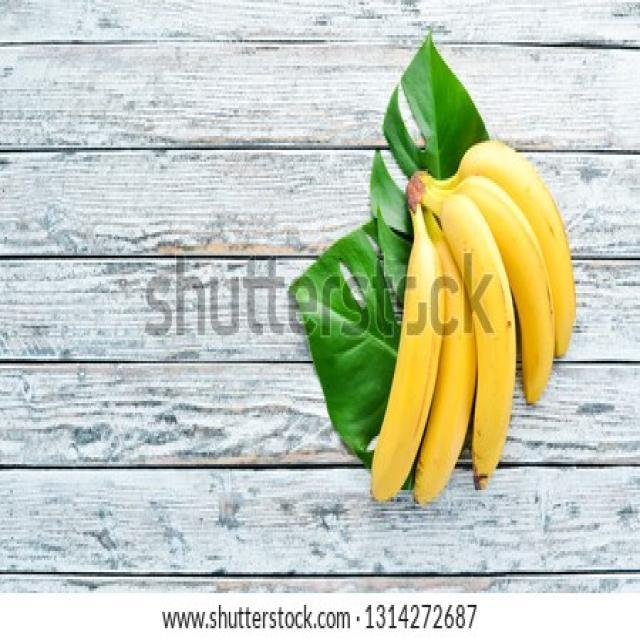banana: (370, 135, 578, 514)
